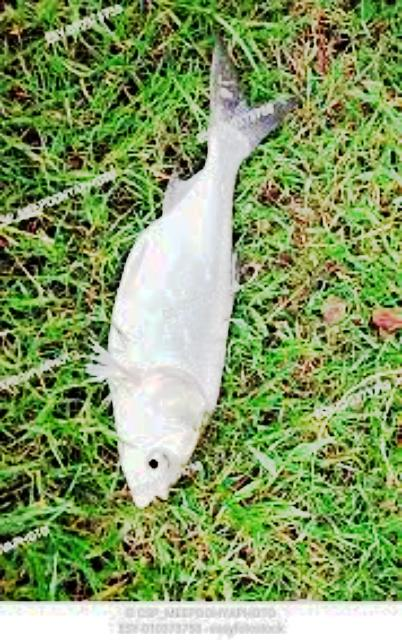Healthy Fish: (88, 38, 292, 504)
